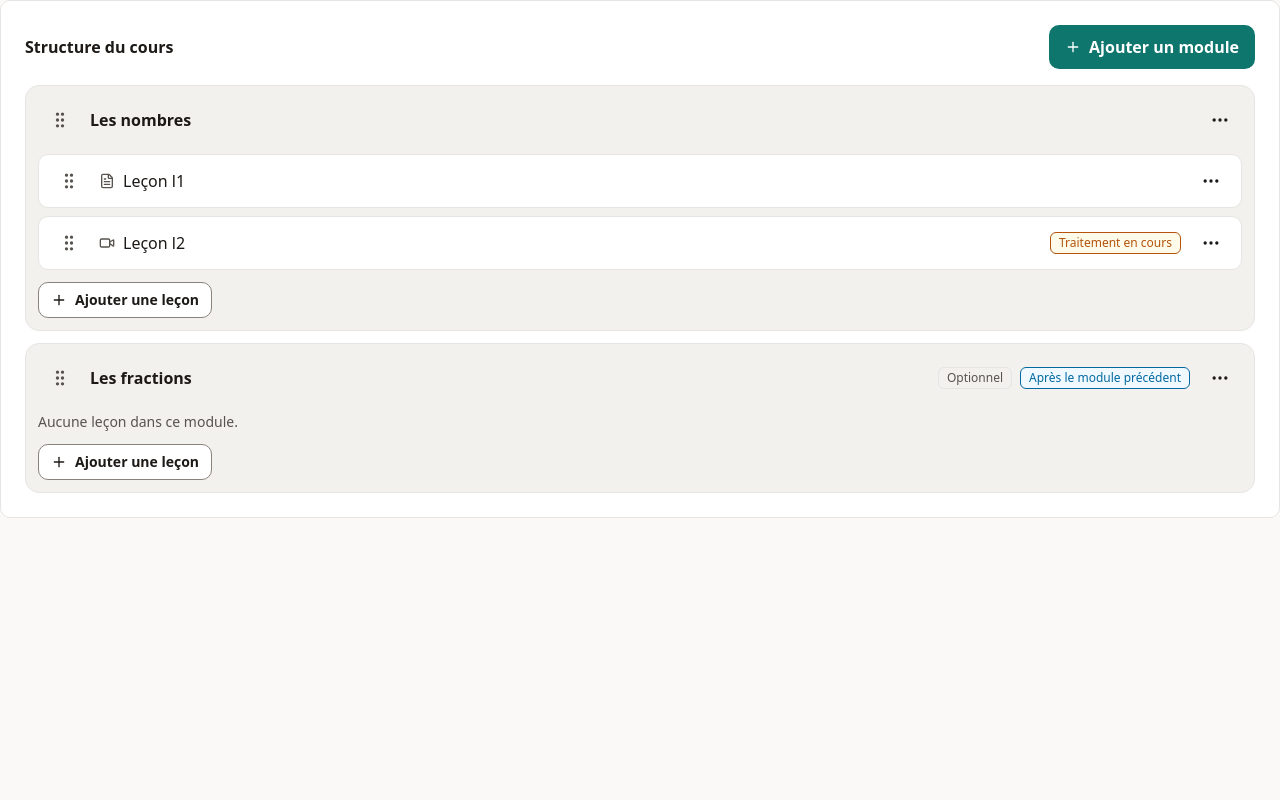
Test case: StructurePanel › adds a module through its dialog
This screenshot has width=1280, height=800.
Click the button "Ajouter un module". click: (1152, 47)
box: [1049,25,1255,69]
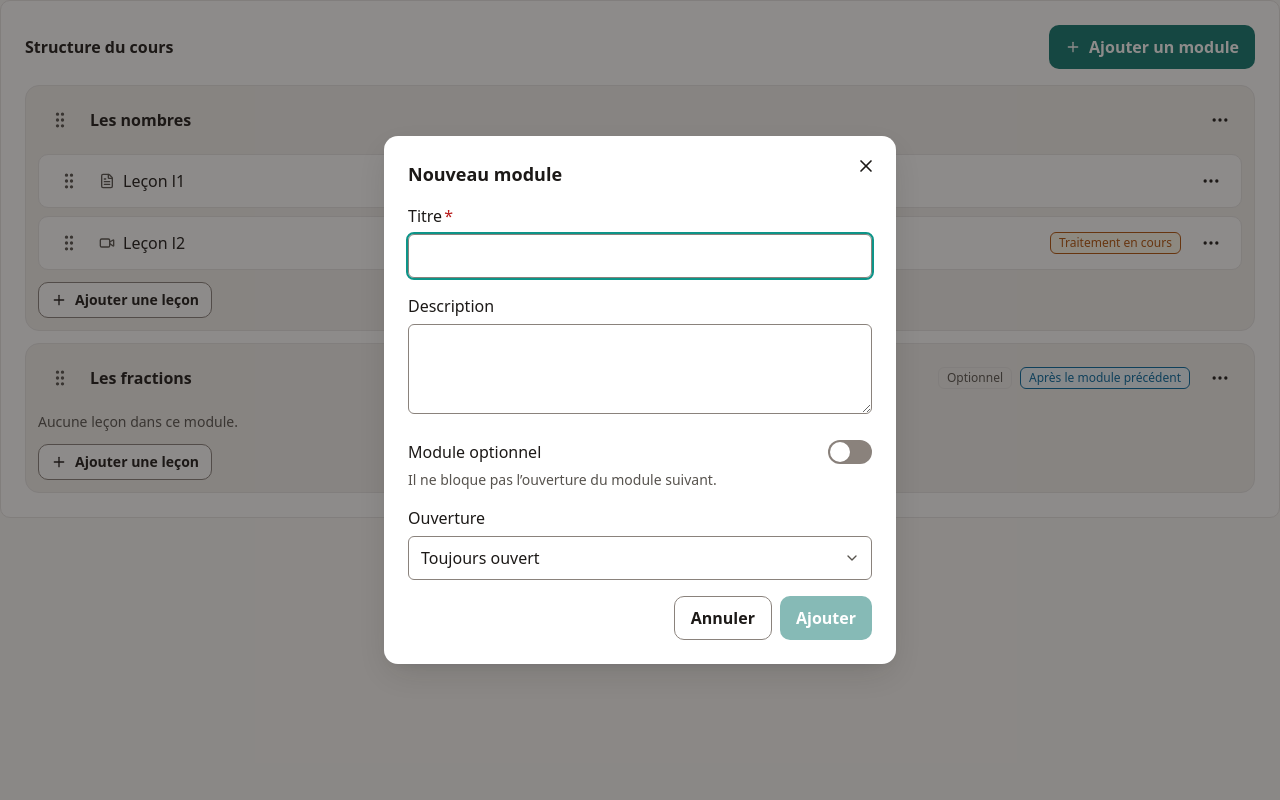
Type "Les décimaux" into the field labelled "Titre". click: (640, 256)
box: [408,234,872,278]
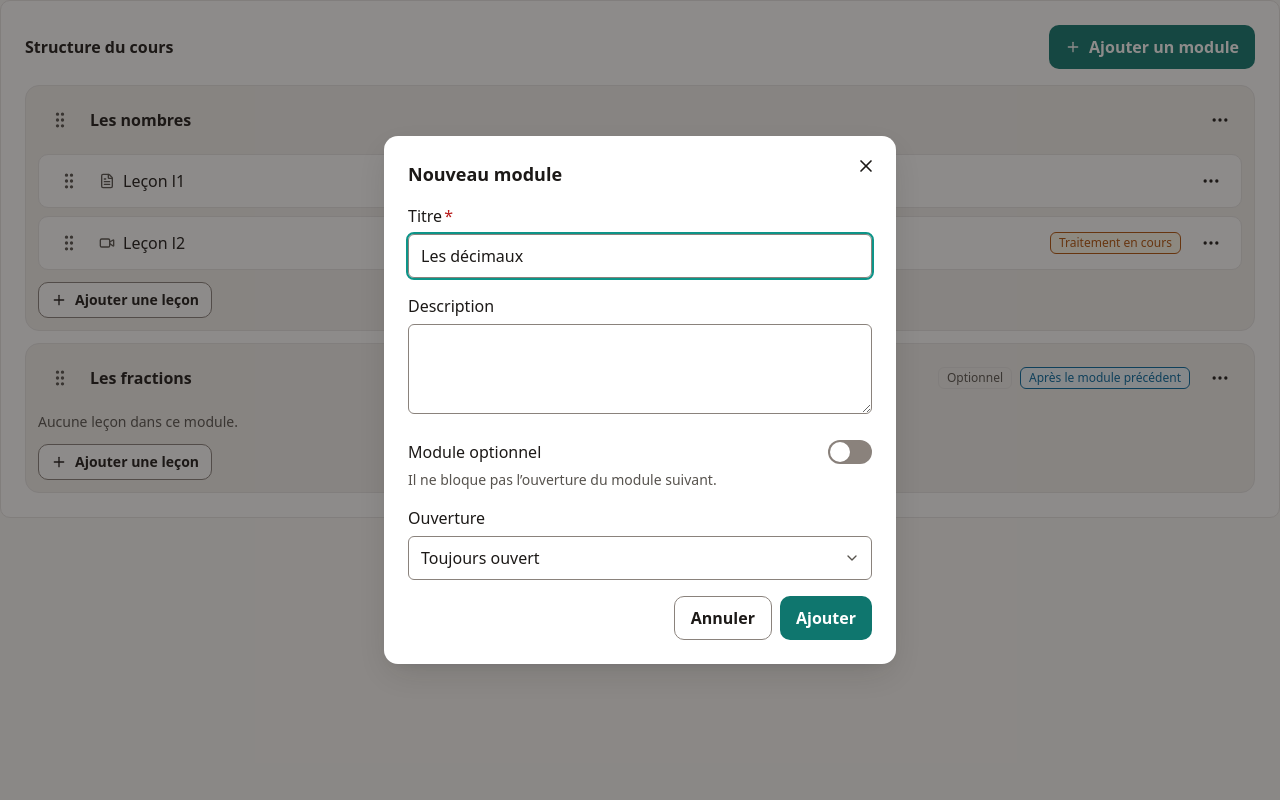
Select "Quand le module précédent est terminé" in the dropdown labelled "Ouverture". click: (640, 558)
box: [408,536,872,580]
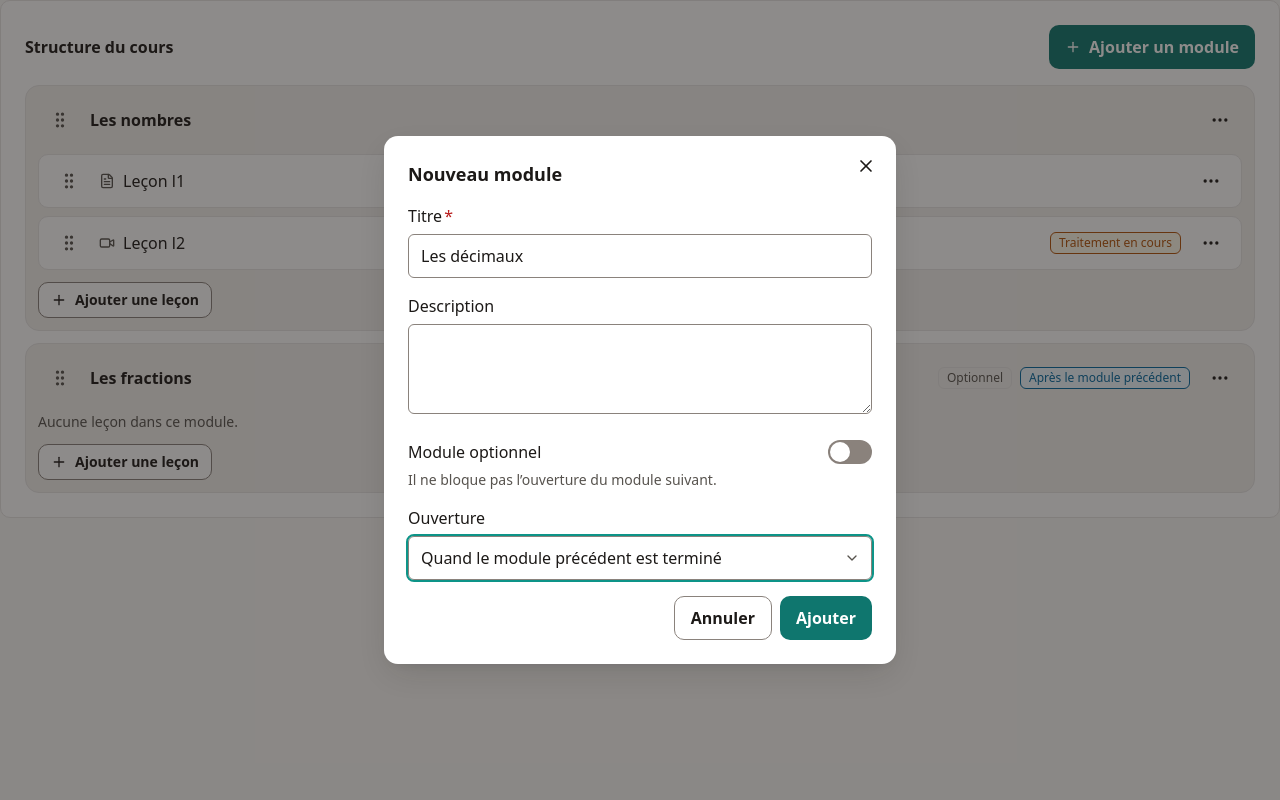
Click the button "Ajouter". click: (826, 618)
box: [780,596,872,640]
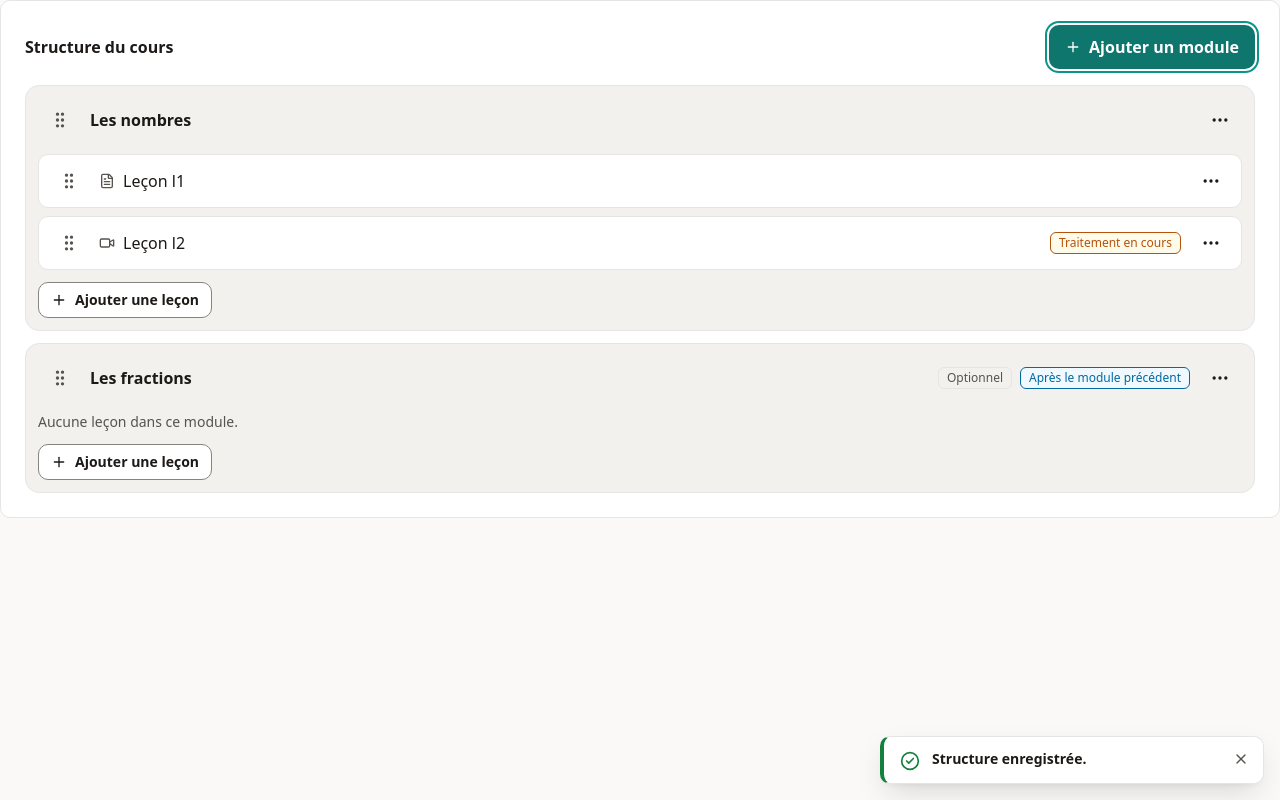
Check: the dialog is gone
